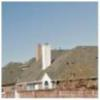chimneys: (42, 43, 52, 72), (36, 43, 42, 62)
